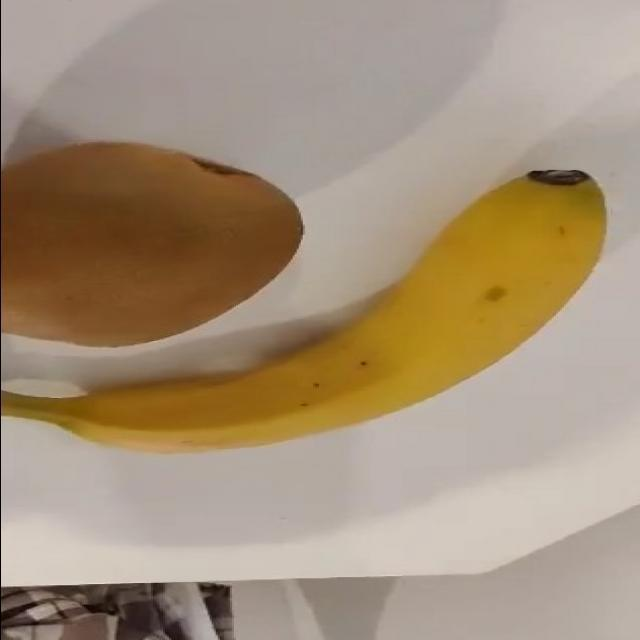Banana: (0, 165, 608, 457)
